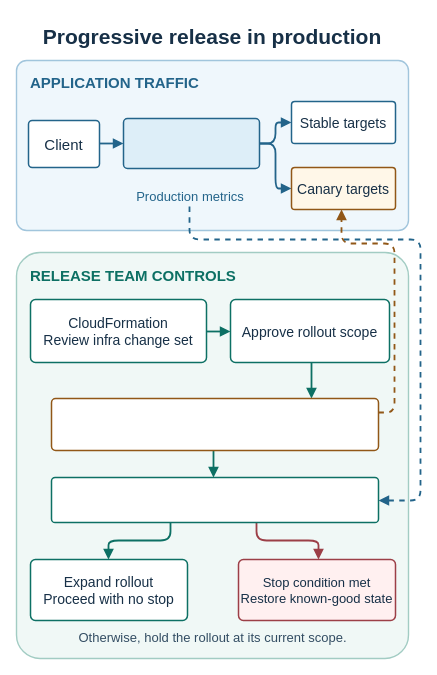
This 437x675 diagram has some shape labels left out. Each missing label, with the centre of its shape:
"Check user impact metrics" goes at (214,499).
"Load balancer" goes at (191,143).
"Release pipeline Deploy to canary targets only" goes at (214,424).
